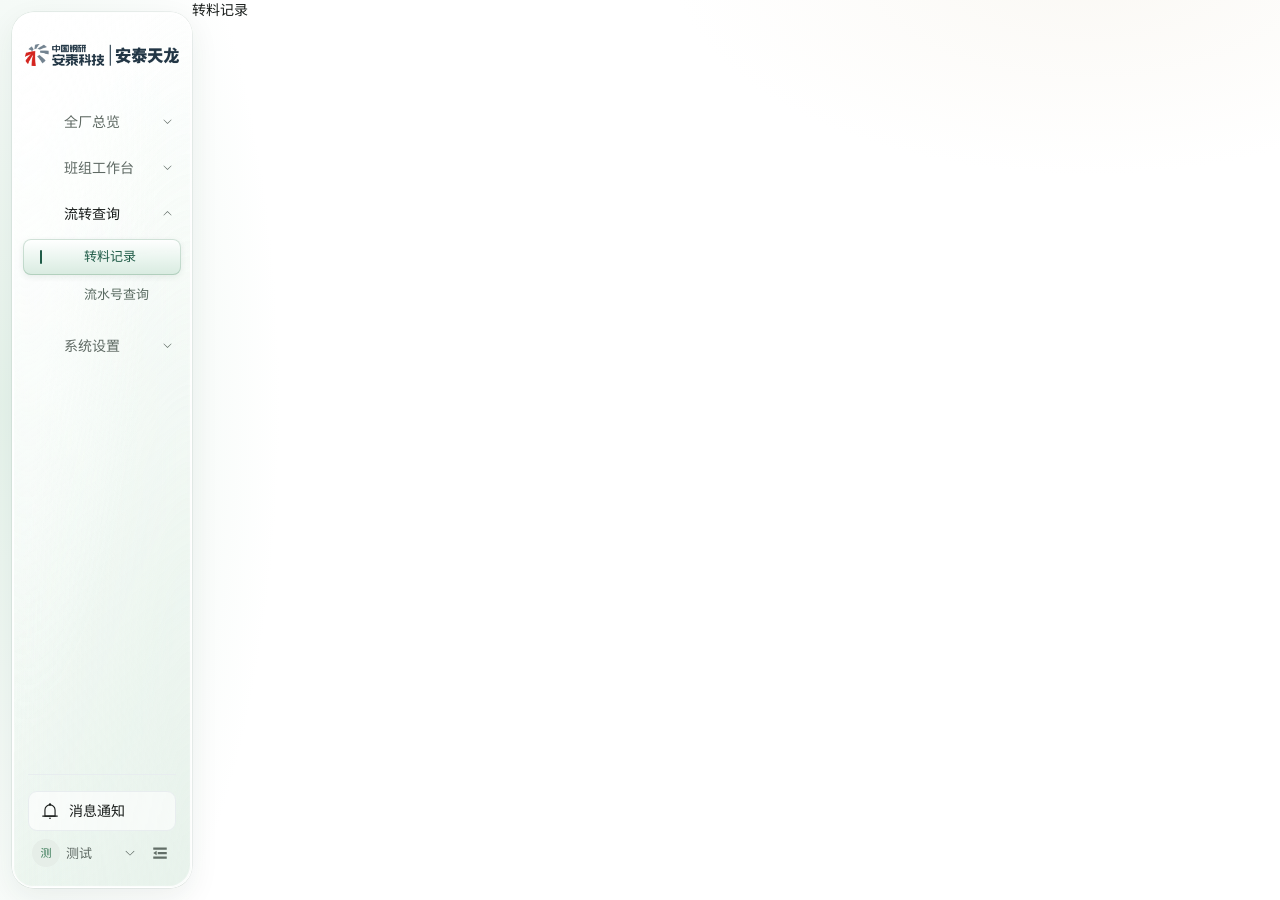
Scenario: application navigation shell › keeps the account menu and logout accessible in the sidebar
This screenshot has width=1280, height=900.
expect the text with class "sidebar__user-label" reads "测试": met, box [66, 846, 92, 860]
What coordinates should you click on to do the following:
click the button with class "sidebar__user"
I would click on:
 (84, 853)
Its box is [28, 835, 140, 871].
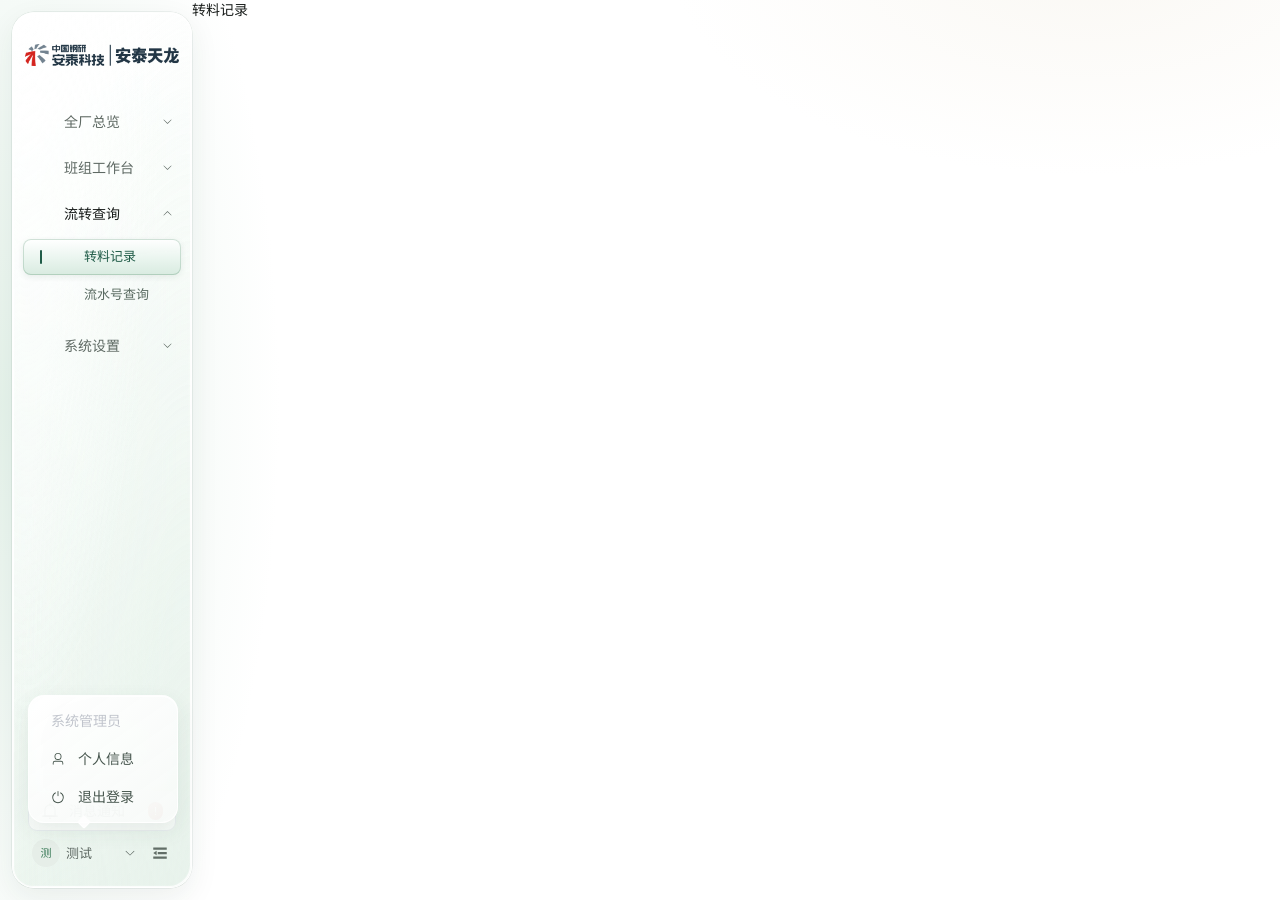
expect the element with class "factory-account-menu" shows "退出登录": met, box [78, 789, 134, 805]
expect the element with class "factory-account-menu" shows "系统管理员": met, box [51, 713, 121, 729]
What coordinates should you click on to do the following:
click the menu item "个人信息"
I would click on:
 (92, 759)
Its box is [51, 751, 134, 767].
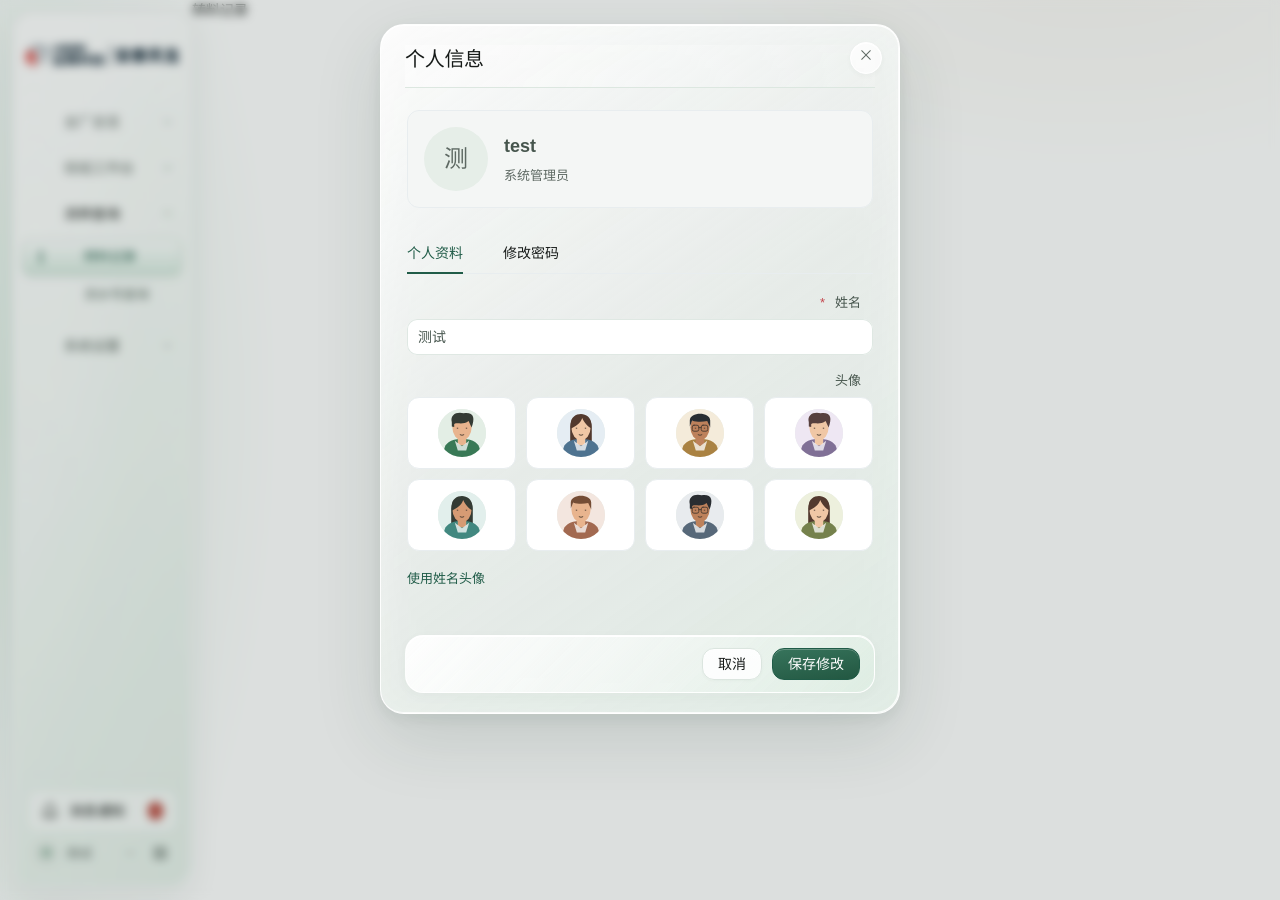
expect the field named "姓名" is shown: met, box [418, 320, 862, 354]
